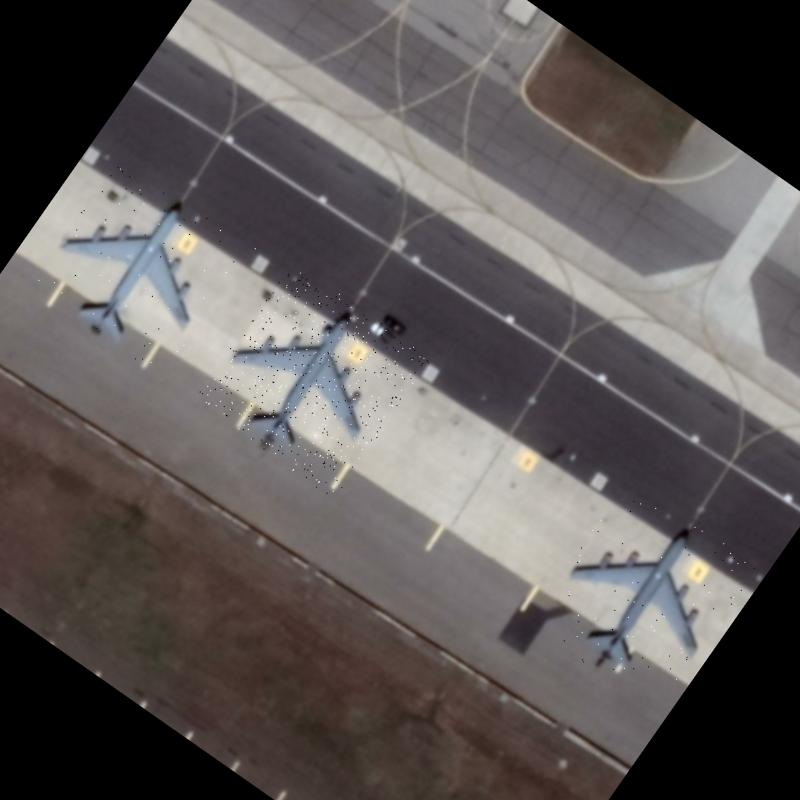A14: (192, 260, 432, 500), (526, 474, 762, 715), (27, 152, 260, 384)
